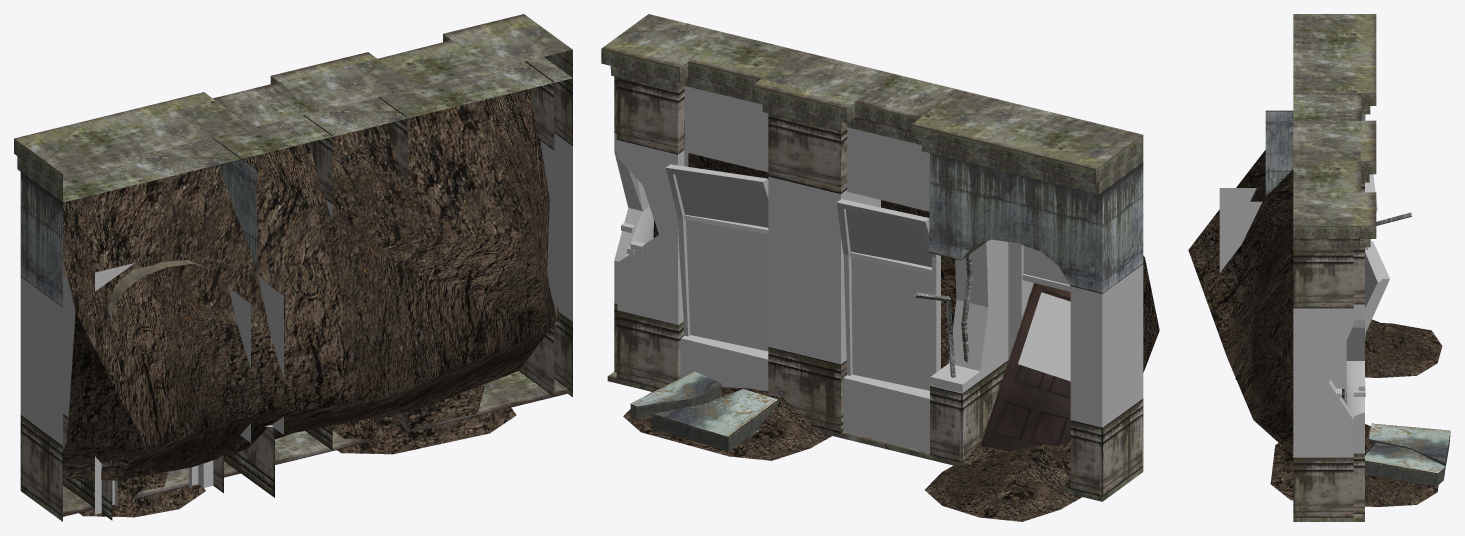
Rendered from Store_front_42.fbx.
The picture shows the model from 3 angles, left to right: view 1: azimuth 30°, elevation 25°; view 2: azimuth 150°, elevation 25°; view 3: azimuth 270°, elevation 25°; orthographic projection. The views are drawn at different scales.
Visible parts, largest first — view 1: Store_front_42; view 2: Store_front_42; view 3: Store_front_42.
Boxes of the visible parts, x1,y1,x2,y2 form: Store_front_42: [14, 14, 572, 521]; Store_front_42: [601, 14, 1159, 521]; Store_front_42: [1188, 14, 1450, 521].
Bounding box in the file's own units: 700 × 460 × 366.
